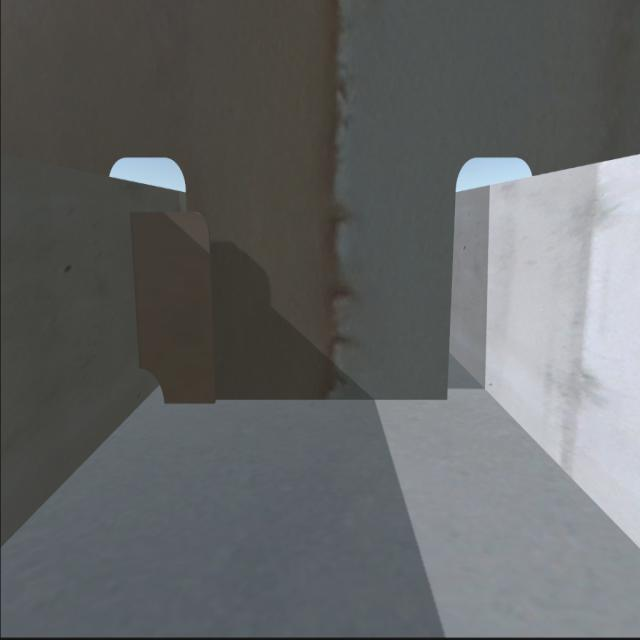fillet_hole: (140, 374, 164, 404)
fillet_yong_jeop_jang: (174, 393, 451, 403)
longi_yong_jeop_jang: (125, 216, 144, 363), (218, 191, 219, 192)
plate_CP05: (128, 212, 213, 404)
